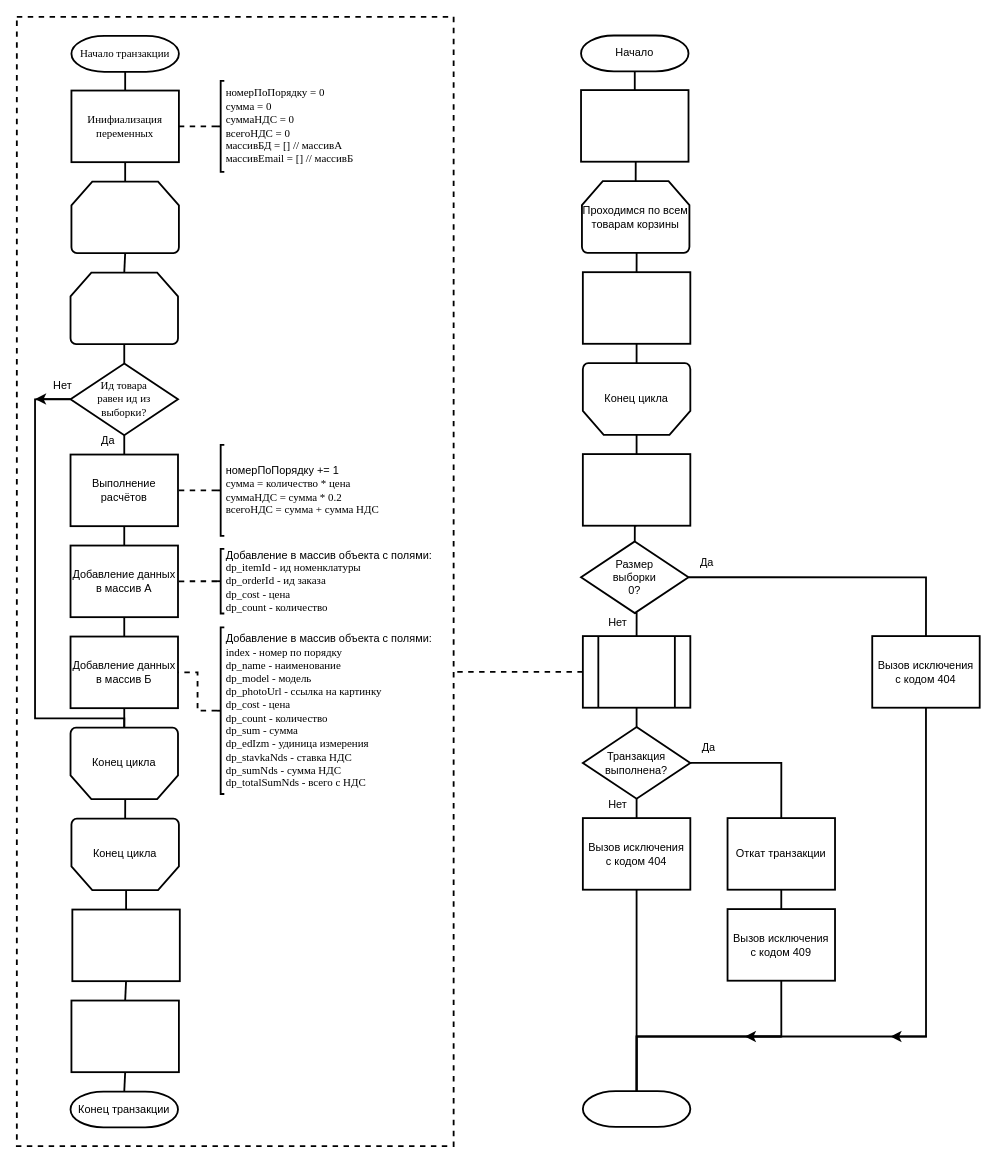
Some shapes in this 996 by 1162 pixel diagram are drawn without their labels. Here are the shapes that lost their labels. From the top down, the box of each, then its label:
(580, 89, 689, 162): Создаем множество ид номенклатуры
(70, 180, 179, 254): Проходим по всем товарам корзины
(69, 271, 178, 345): Проходимся по всем элементам выборки номенклатуры
(581, 271, 691, 344): Добавляем ид товара во множество ид номенклатуры
(581, 453, 691, 526): Получаем выборку номенклатуры по множеству ид номенклатуры
(581, 635, 691, 708): Выполнение транзакции
(71, 908, 180, 982): Вополняем INSERT массива А
(70, 999, 179, 1073): Отправка на e-mail таблицы с массивом Б
(581, 1090, 691, 1127): Конец
